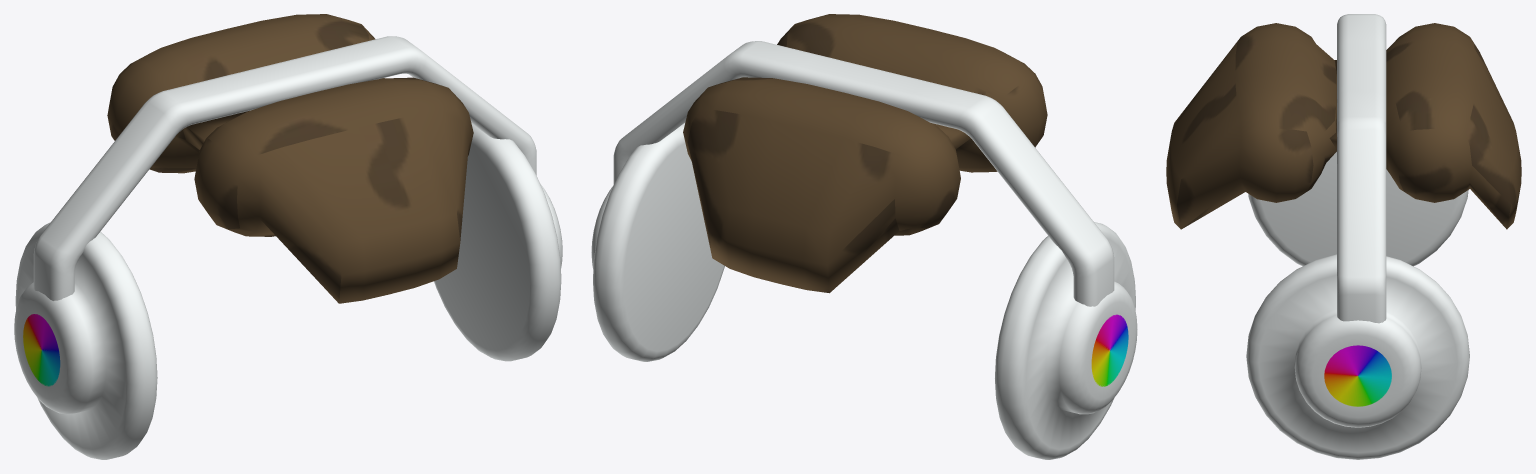
Rendered from item-headphones.glb.
3 views of the same model, side by side, from view 1: azimuth 30°, elevation 25°; view 2: azimuth 150°, elevation 25°; view 3: azimuth 270°, elevation 25° (orthographic). The views are drawn at different scales.
Bounding box in the file's own units: 0.8264 × 0.5416 × 0.5654.
3 materials, 3 textured.
